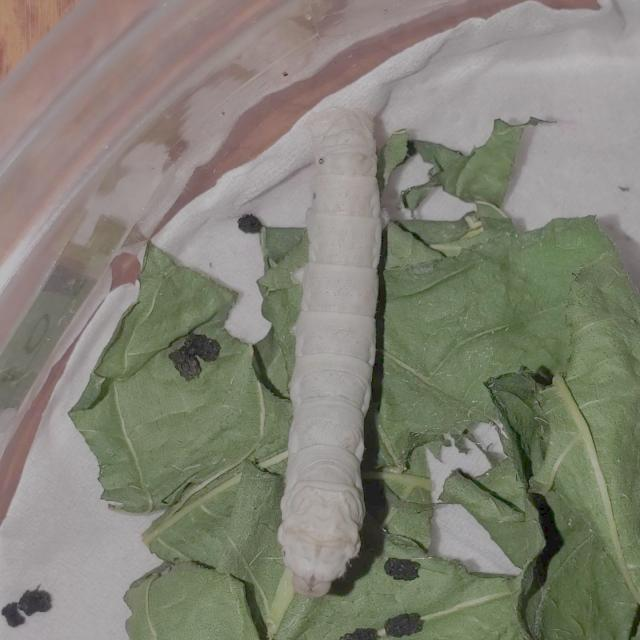Healthy: (269, 91, 403, 607)
